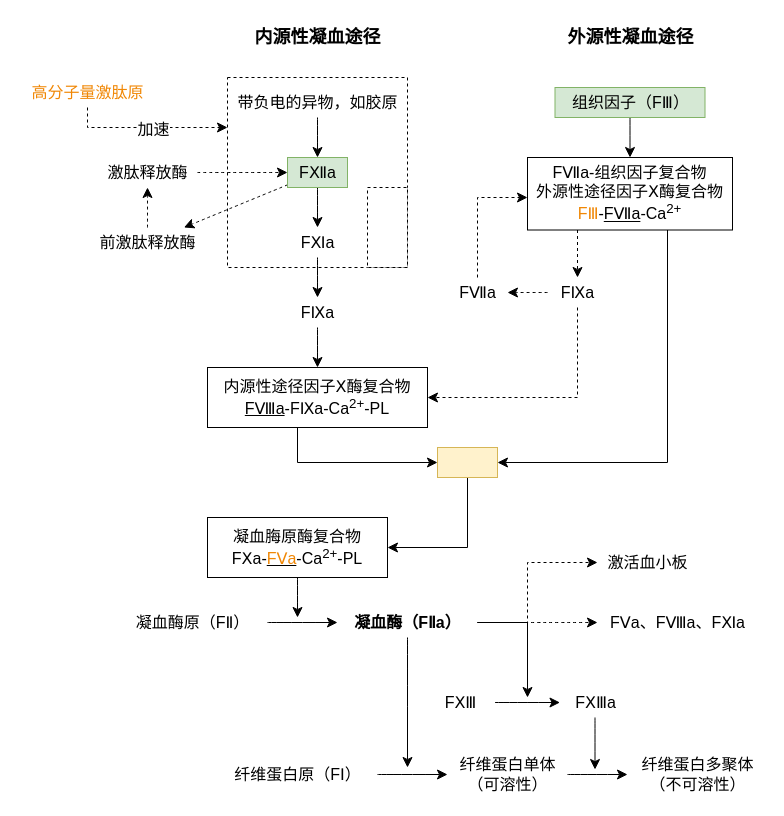
This 784x816 diagram has some shape labels left out. Each missing label, with the centre of its shape:
"FⅩa" goes at (x=467, y=462).
"表面激活" goes at (x=387, y=227).
